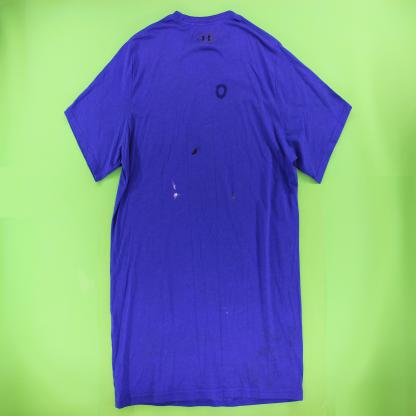stain: (213, 80, 228, 101), (188, 143, 201, 159), (169, 176, 178, 192), (230, 188, 237, 206), (171, 192, 183, 202)
